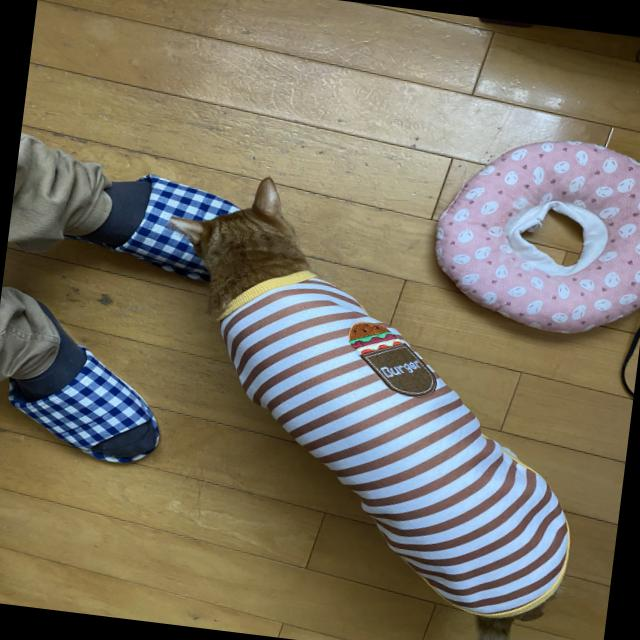cat3: (113, 162, 615, 640)
